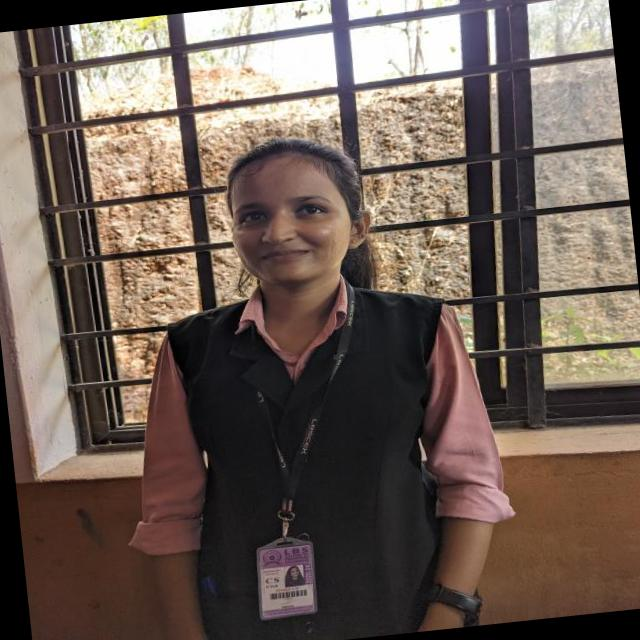id_card: (225, 292, 372, 624)
